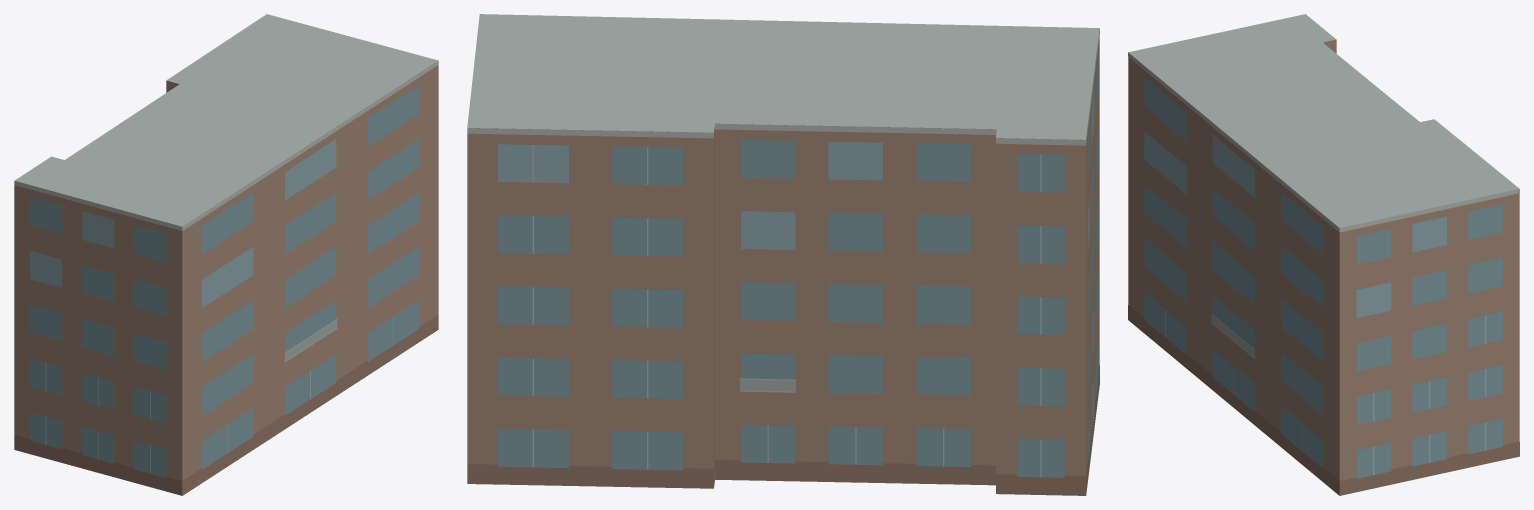
The model's file is survey-upis-32834934.glb.
3 renders of one model, left to right at view 1: azimuth 30°, elevation 25°; view 2: azimuth 150°, elevation 25°; view 3: azimuth 270°, elevation 25°, orthographic. The views are drawn at different scales.
Visible parts, largest first — view 1: survey-upis-32834934.tmp; view 2: survey-upis-32834934.tmp; view 3: survey-upis-32834934.tmp.
Part boxes in pixels (x1,y1,x2,y2): survey-upis-32834934.tmp: (14, 14, 438, 495); survey-upis-32834934.tmp: (467, 14, 1099, 495); survey-upis-32834934.tmp: (1128, 14, 1519, 495).
Bounding box in the file's own units: 25.75 × 15 × 19.89.
